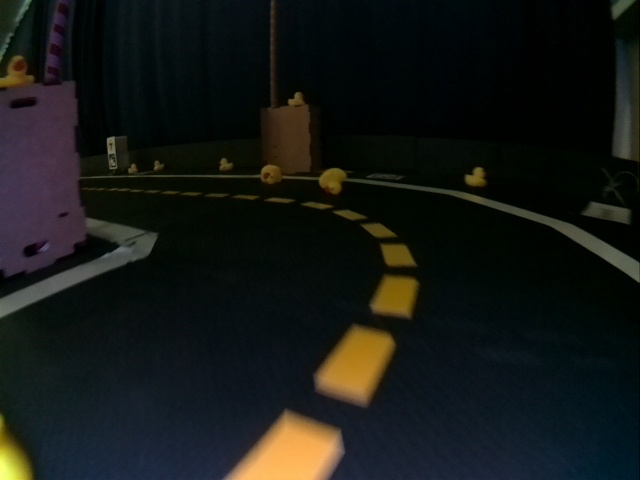Duckie: (2, 56, 35, 86), (319, 168, 346, 195), (465, 166, 486, 185), (260, 167, 282, 185), (290, 92, 304, 105), (219, 158, 232, 171), (127, 164, 137, 173), (154, 161, 163, 170)
Intersection sign: (106, 138, 115, 152)
QR code: (367, 172, 404, 181), (108, 155, 117, 167)
